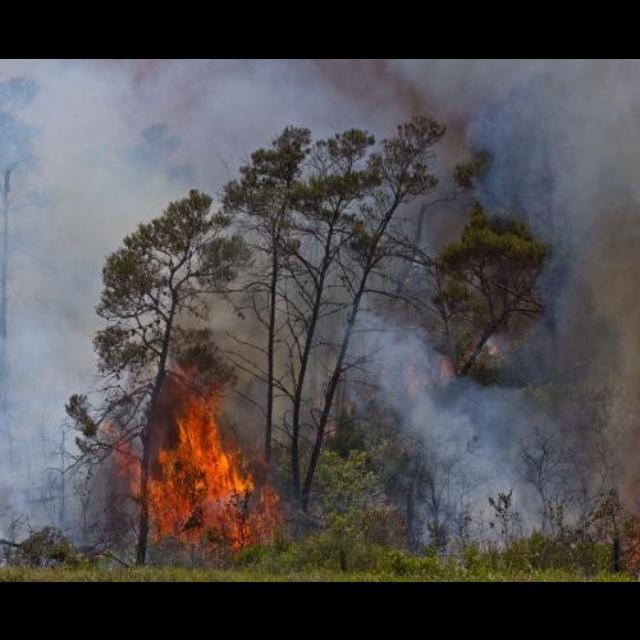Fire: (110, 362, 282, 550)
Smoke: (2, 59, 640, 567)
